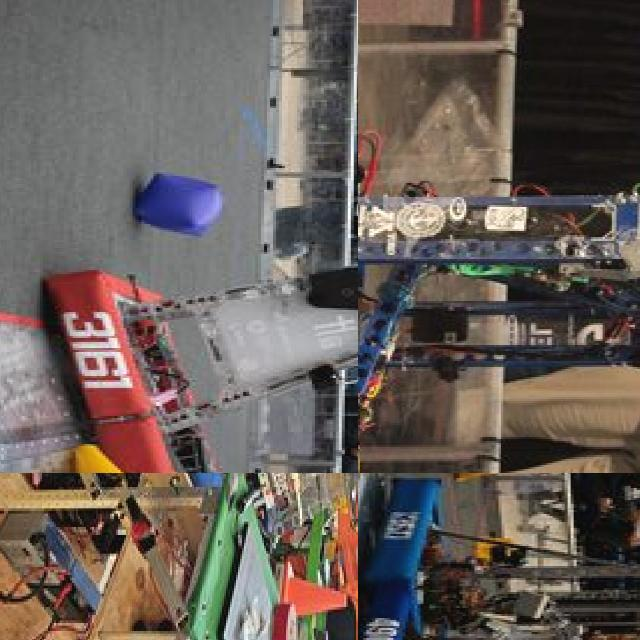FRC-Robots: (358, 0, 640, 473), (51, 216, 358, 473), (370, 473, 640, 640), (110, 473, 358, 602), (358, 597, 640, 640)
